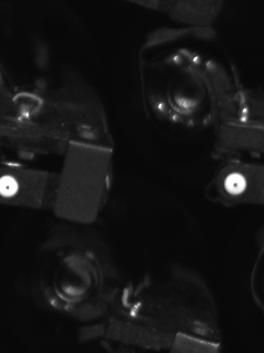fiber: (216, 168, 251, 202), (1, 169, 22, 208)
